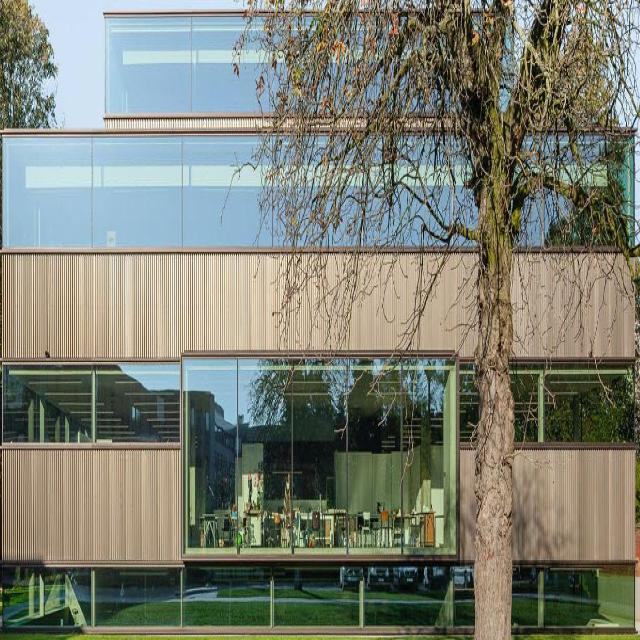window: (3, 358, 640, 638), (3, 17, 640, 251)
